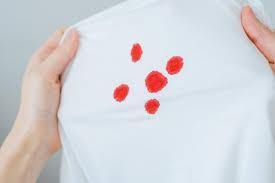blood: (145, 70, 168, 92), (166, 55, 183, 74), (113, 84, 130, 103), (144, 99, 160, 114), (131, 43, 143, 62)
